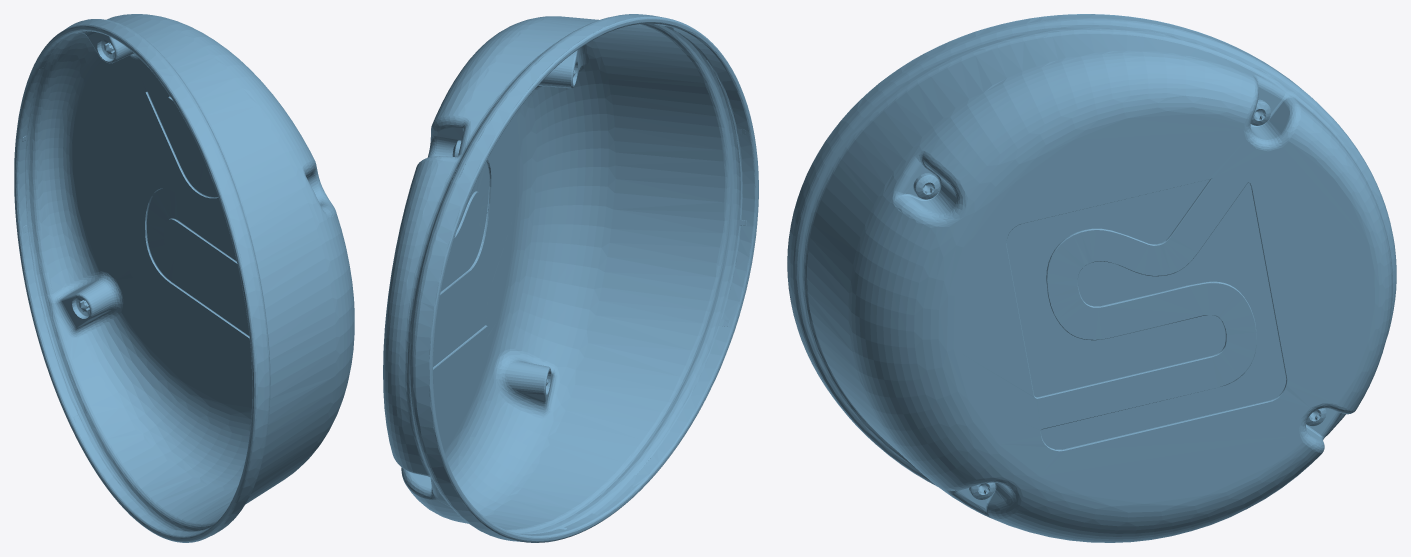
Rendered from shoulder_0.obj.
3 views of the same model, side by side, from view 1: azimuth 30°, elevation 25°; view 2: azimuth 150°, elevation 25°; view 3: azimuth 270°, elevation 25° (orthographic). The views are drawn at different scales.
Parts seen in each view (by area): view 1: shoulder_0; view 2: shoulder_0; view 3: shoulder_0.
Part boxes in pixels (x1=…): shoulder_0: x1=14, y1=14, x2=354, y2=542; shoulder_0: x1=383, y1=14, x2=758, y2=542; shoulder_0: x1=787, y1=14, x2=1396, y2=542.
Size of the model in its own units: 0.0424 by 0.1205 by 0.1309.
